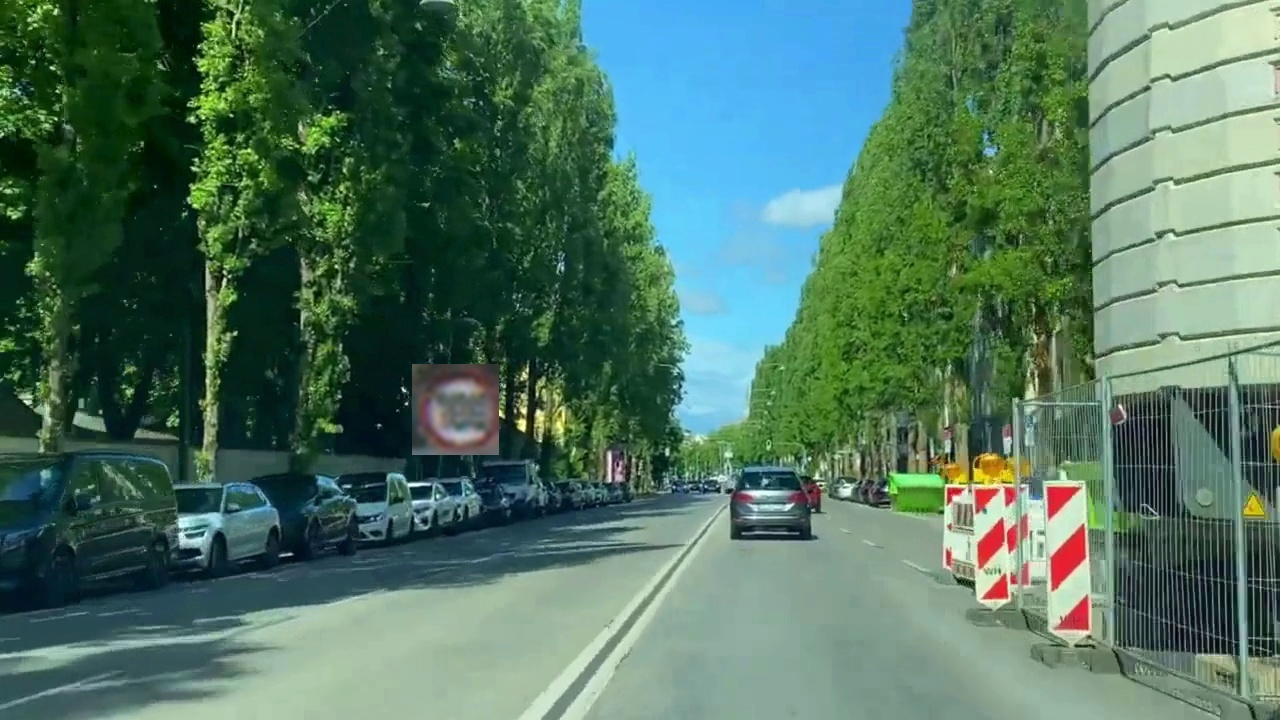Speed 100: (412, 364, 499, 455)
